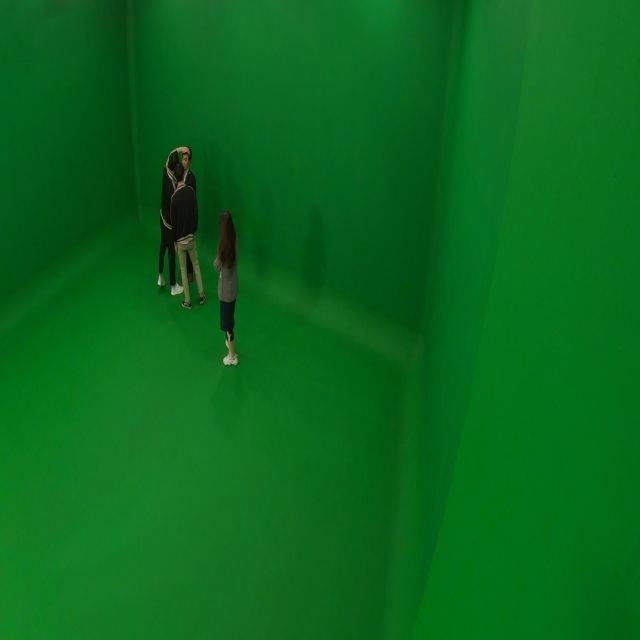non-fight: (167, 162, 207, 310), (211, 212, 241, 366), (154, 146, 181, 297)
